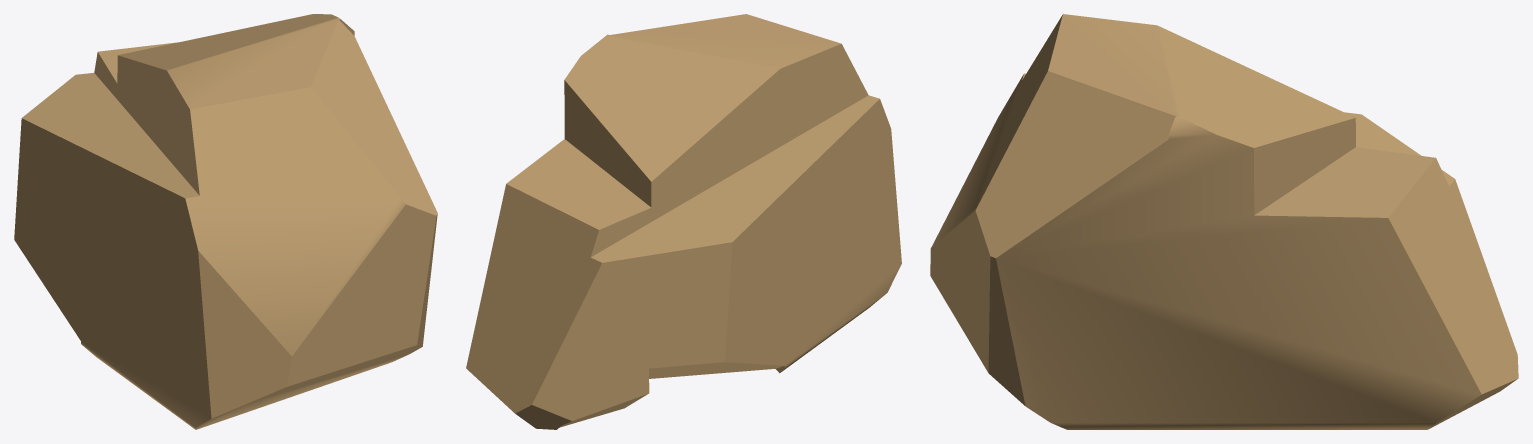
Rendered from BrokenRuin_miscChunk_01.fbx.
3 renders of one model, left to right at view 1: azimuth 30°, elevation 25°; view 2: azimuth 150°, elevation 25°; view 3: azimuth 270°, elevation 25°, orthographic. The views are drawn at different scales.
Visible parts, largest first — view 1: MiscChunk; view 2: MiscChunk; view 3: MiscChunk.
Boxes of the visible parts, box(x1,y1,x2,y2) form: MiscChunk: box(14, 14, 437, 429); MiscChunk: box(466, 14, 901, 429); MiscChunk: box(930, 14, 1518, 429).
Bounding box in the file's own units: 94.07 × 114 × 194.
